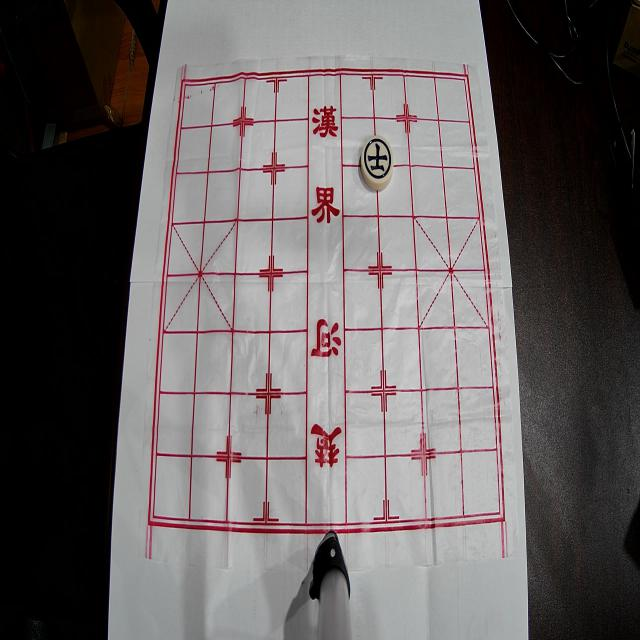black-guard: (361, 136, 393, 190)
